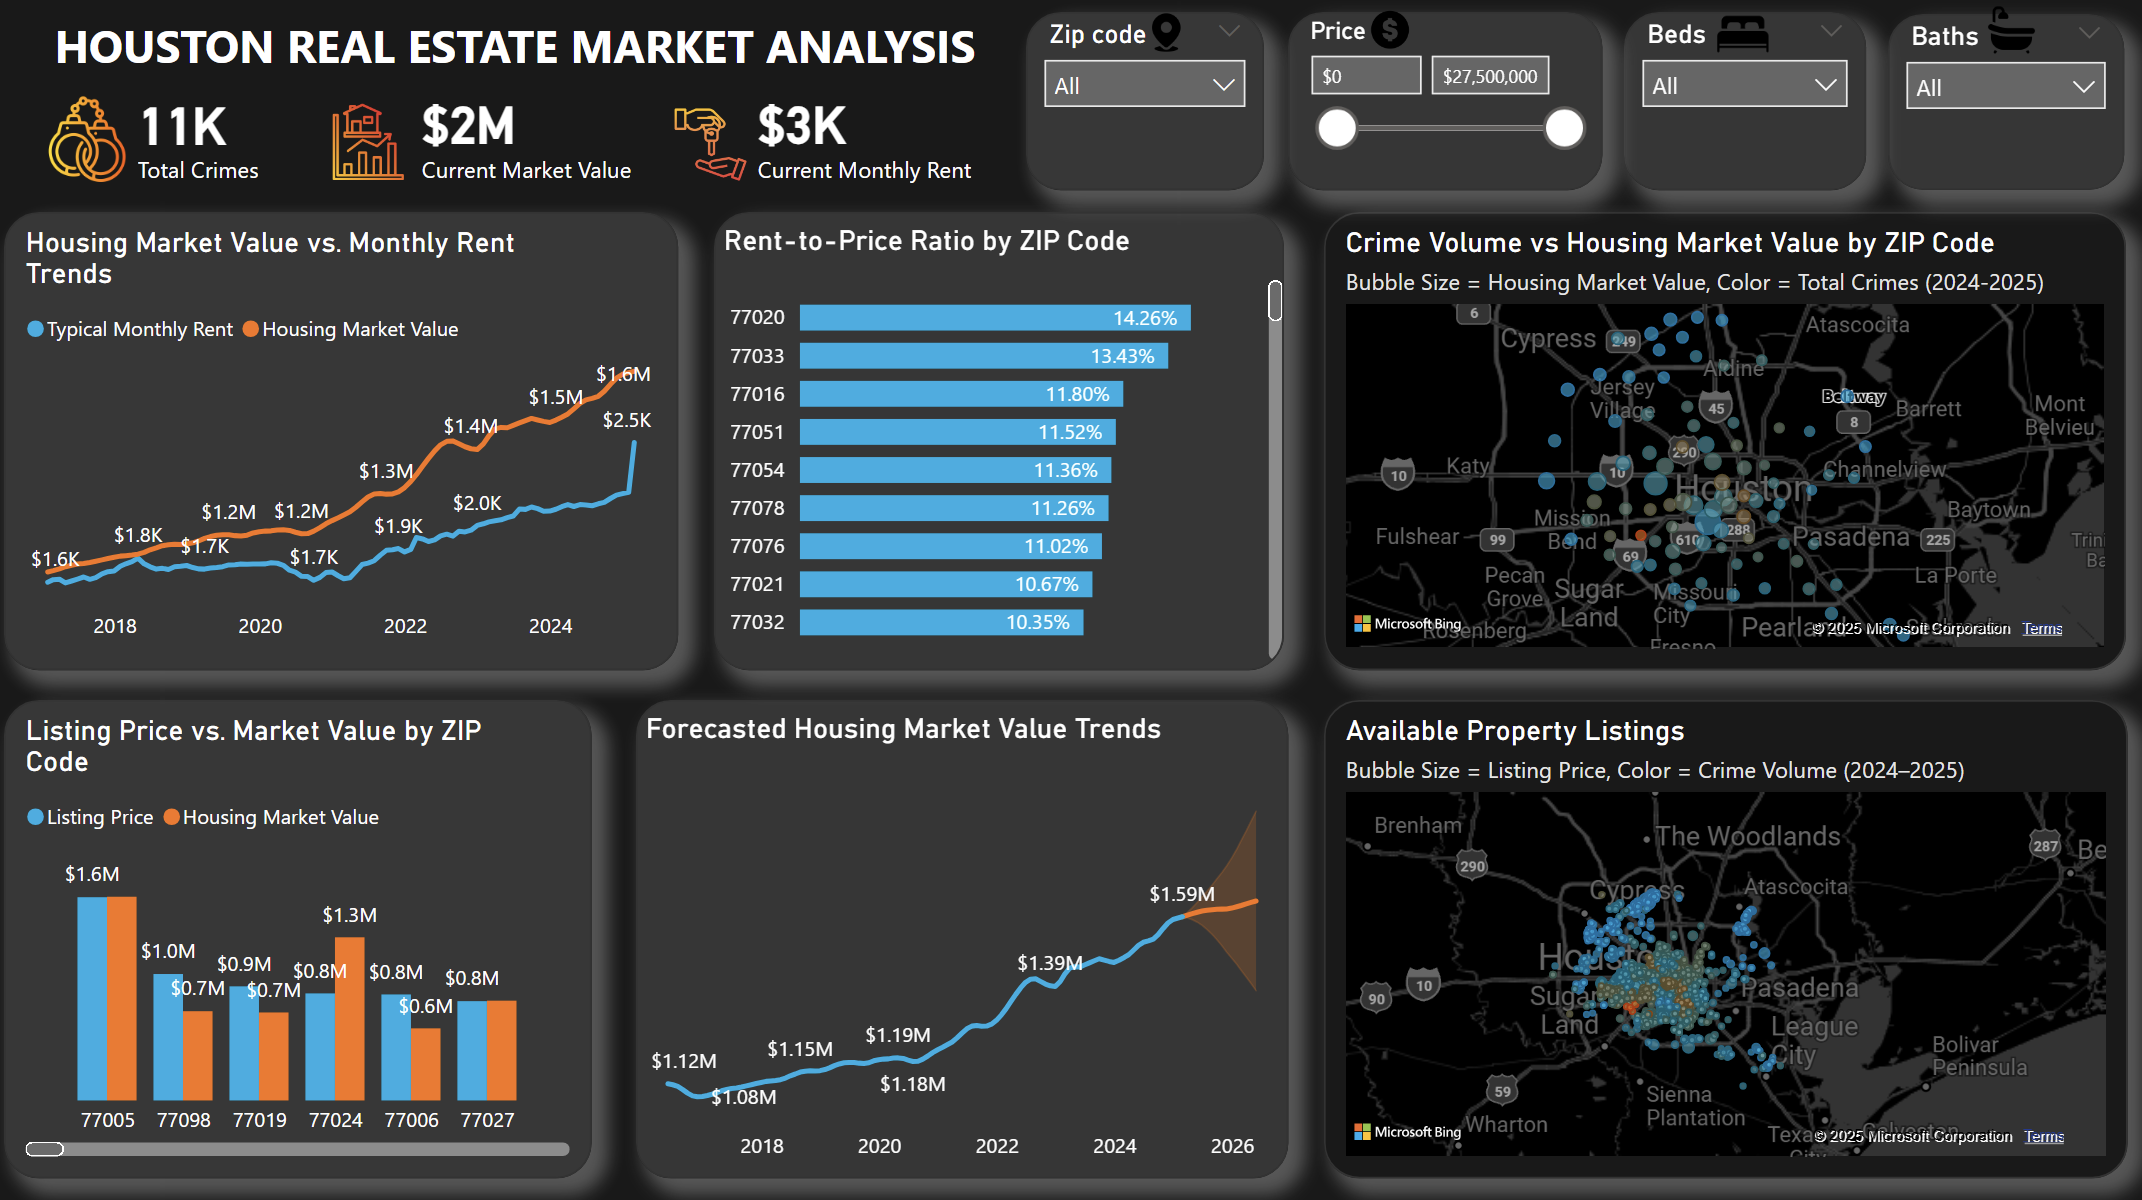

Layout of this report page (visuals, bound fields, positions):
{"tool":"powerbi","page":{"name":"Page 1","canvas":[1280,720],"ordinal":0},"visuals":[{"type":"map","title":"Crime Volume vs Housing Market Value by ZIP Code","fields":{"Category":["housings.zipcode"],"Size":["Max(housings.recent_zhvi_value)"]},"box":[792.3,130.9,477,272.4],"z":0},{"type":"slicer","fields":{"Values":["newvalues.zipcode"]},"box":[615,11.9,141.6,105.9],"z":1000},{"type":"slicer","fields":{"Values":["housings.beds"]},"box":[970.7,11.9,143.9,105.9],"z":2000},{"type":"slicer","fields":{"Values":["housings.baths"]},"box":[1127.7,13.1,140.4,104.7],"z":3000},{"type":"clusteredColumnChart","title":"Listing Price vs. Market Value by ZIP Code","fields":{"Category":["housings.zipcode"],"Y":["Median(housings.price)","Max(housings.recent_zhvi_value)"]},"box":[7.1,421.1,349.7,284.3],"z":4000},{"type":"lineChart","title":"Housing Market Value vs. Monthly Rent Trends","fields":{"Y":["Max(newvalues.zori_value)"],"Category":["newvalues.zhvi_date.Variation.Date Hierarchy.Year","newvalues.zhvi_date.Variation.Date Hierarchy.Quarter","newvalues.zhvi_date.Variation.Date Hierarchy.Month","newvalues.zhvi_date.Variation.Date Hierarchy.Day"],"Y2":["Max(newvalues.zhvi_value)"]},"box":[7.1,130.9,400.9,272.4],"z":5000},{"type":"map","title":"Available Property Listings","fields":{"Category":["housings.address"],"Size":["Max(housings.price)"]},"box":[792.3,421.1,478.2,284.3],"z":6000},{"type":"cardVisual","fields":{"Data":["Max(housings.total_crimes)"]},"box":[55,45,128.5,73.8],"z":7000},{"type":"cardVisual","fields":{"Data":["Max(housings.recent_zhvi_value)"]},"box":[224,50,208.2,73.8],"z":8000},{"type":"cardVisual","fields":{"Data":["Max(housings.recent_zori_value)"]},"box":[424,50,207,70.2],"z":9000},{"type":"barChart","title":"Rent-to-Price Ratio by ZIP Code","fields":{"Category":["housings.zipcode"],"Y":["housings.RentToPriceRatio"]},"box":[429.4,130.9,339,272.4],"z":10000},{"type":"lineChart","title":"Forecasted Housing Market Value Trends","fields":{"Category":["newvalues.zhvi_date"],"Y":["Max(newvalues.zhvi_value)"]},"box":[383,421.1,387.8,284.3],"z":11000},{"type":"textbox","box":[32.2,7.8,566.7,52.2],"z":12000},{"type":"slicer","fields":{"Values":["housings.price"]},"box":[770.9,11.9,186.8,105.9],"z":13000},{"type":"textbox","box":[779.2,8.3,99.9,48.8],"z":14000},{"type":"image","box":[1021,5,41.6,40.4],"z":15000},{"type":"image","box":[1178,4,47,38],"z":16000},{"type":"image","box":[807,6,50,33],"z":17000},{"type":"image","box":[680,4,36,41],"z":18000},{"type":"image","box":[22.6,53.5,67.8,67.8],"z":19000},{"type":"image","box":[190,61,66.6,57.1],"z":21000},{"type":"image","box":[397,64,60,53],"z":22000}]}

Visuals, with their boxes in screenshot pixels (x1, y1, x2, y2), scaled from the page's 1280x720 canvas onto the 2142x1200 screenshot:
"Crime Volume vs Housing Market Value by ZIP Code" map: detection(1326, 218, 2124, 672)
slicer - newvalues.zipcode: detection(1029, 20, 1266, 196)
slicer - housings.beds: detection(1624, 20, 1865, 196)
slicer - housings.baths: detection(1887, 22, 2122, 196)
"Listing Price vs. Market Value by ZIP Code" clusteredColumnChart: detection(12, 702, 597, 1176)
"Housing Market Value vs. Monthly Rent Trends" lineChart: detection(12, 218, 683, 672)
"Available Property Listings" map: detection(1326, 702, 2126, 1176)
cardVisual - Max(housings.total_crimes): detection(92, 75, 307, 198)
cardVisual - Max(housings.recent_zhvi_value): detection(375, 83, 723, 206)
cardVisual - Max(housings.recent_zori_value): detection(710, 83, 1056, 200)
"Rent-to-Price Ratio by ZIP Code" barChart: detection(719, 218, 1286, 672)
"Forecasted Housing Market Value Trends" lineChart: detection(641, 702, 1290, 1176)
textbox: detection(54, 13, 1002, 100)
slicer - housings.price: detection(1290, 20, 1603, 196)
textbox: detection(1304, 14, 1471, 95)
image: detection(1709, 8, 1778, 76)
image: detection(1971, 7, 2050, 70)
image: detection(1350, 10, 1434, 65)
image: detection(1138, 7, 1198, 75)
image: detection(38, 89, 151, 202)
image: detection(318, 102, 429, 197)
image: detection(664, 107, 765, 195)
